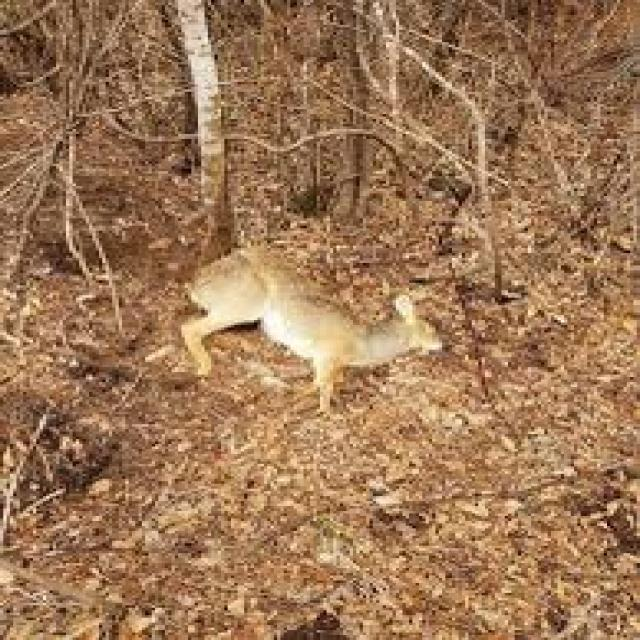elk: (135, 195, 479, 455)
